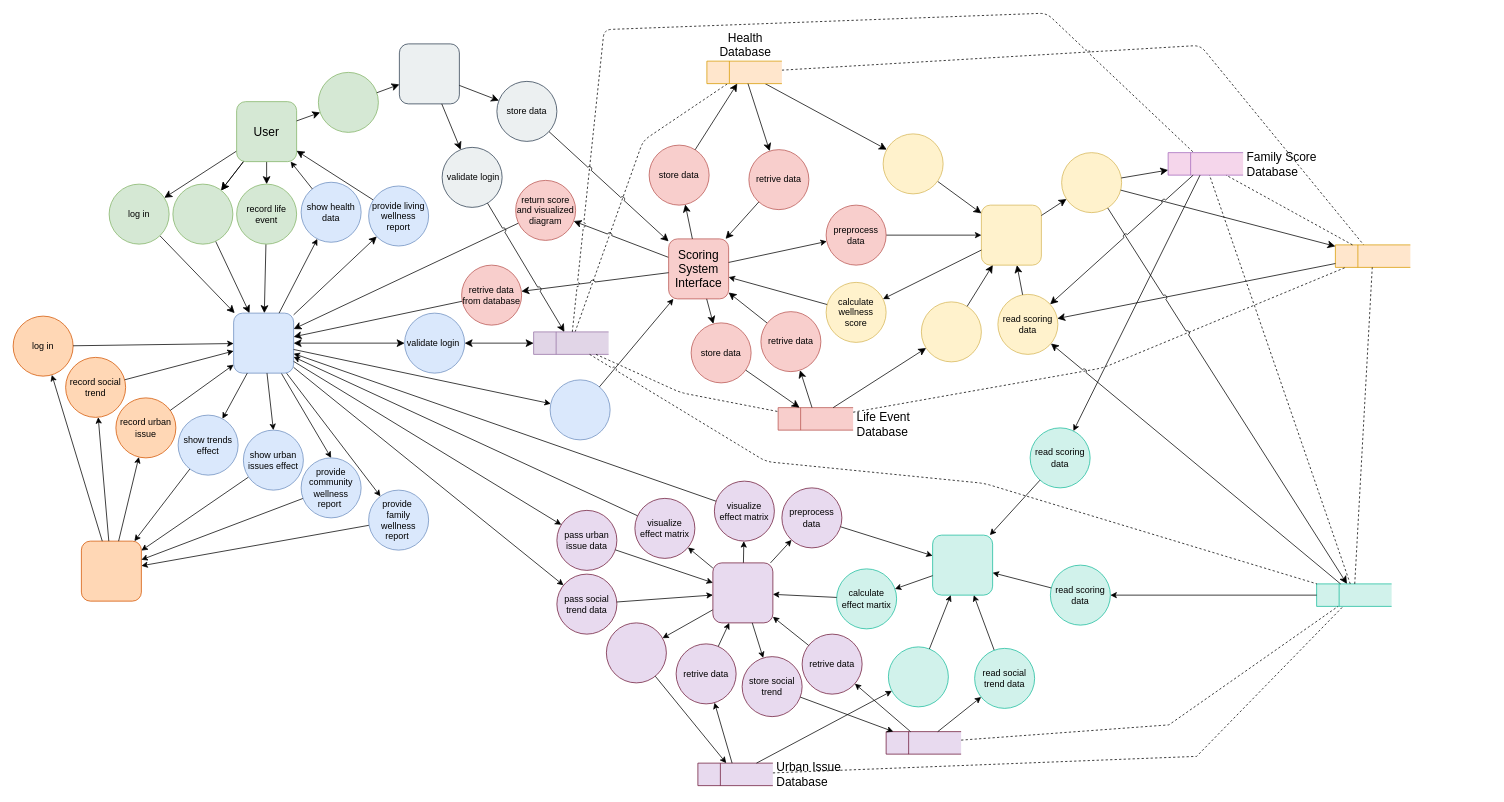
This 1504x802 diagram has some shape labels left out. Here are the shapes that lost their labels. From the top down, the centre of each, then its label:
At point 429,73: "IoT Device".
At point 348,102: "register".
At point 912,163: "read health data".
At point 1091,182: "update scroing data".
At point 202,213: "upload health data".
At point 1011,234: "Scoring System".
At point 1372,255: "User Score Database".
At point 263,342: "website/ mobile interface".
At point 571,342: "Accounts Database".
At point 951,331: "read life event data".
At point 579,409: "pass input data".
At point 111,570: "City Officials".
At point 962,564: "Effect Calculating System".
At point 742,592: "Effect Calculating System Interface".
At point 1354,594: "Community Score Database".
At point 636,652: "store urban issue".
At point 918,676: "read urban issue data".
At point 923,742: "Social Trend Database".
